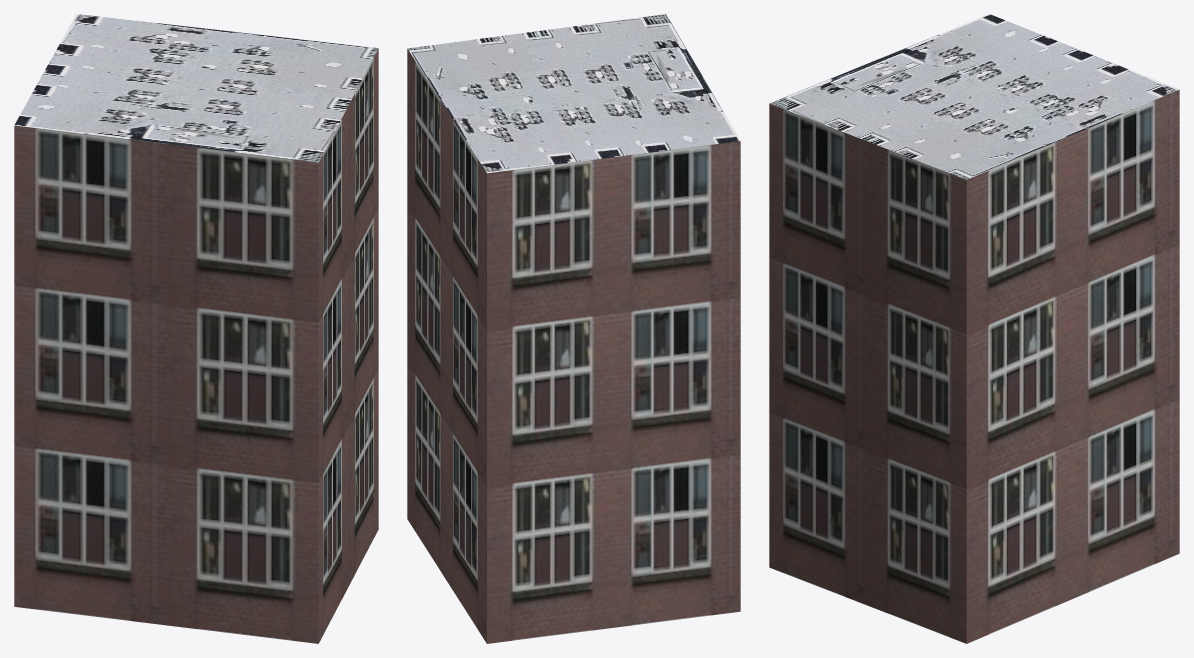
File: ResTex__1430.fbx
3 renders of one model, left to right at view 1: azimuth 30°, elevation 25°; view 2: azimuth 150°, elevation 25°; view 3: azimuth 270°, elevation 25°, orthographic. The views are drawn at different scales.
Parts seen in each view (by area): view 1: CityEngineMaterial_12_m, CityEngineMaterial_4_m; view 2: CityEngineMaterial_12_m, CityEngineMaterial_4_m; view 3: CityEngineMaterial_12_m, CityEngineMaterial_4_m.
Part boxes in pixels (x1,y1,x2,y2): CityEngineMaterial_12_m: [14, 49, 378, 643]; CityEngineMaterial_4_m: [14, 14, 378, 162]; CityEngineMaterial_12_m: [407, 49, 740, 643]; CityEngineMaterial_4_m: [407, 14, 740, 173]; CityEngineMaterial_12_m: [769, 90, 1179, 643]; CityEngineMaterial_4_m: [769, 14, 1179, 179].
Bounding box in the file's own units: 6.9 × 9 × 7.21.
2 materials, 2 textured.
